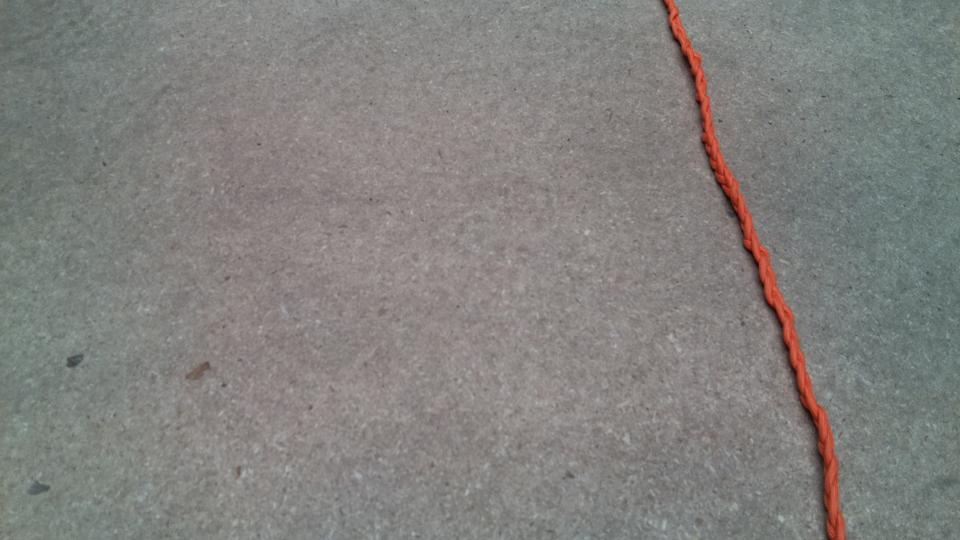rope: (660, 1, 852, 540)
